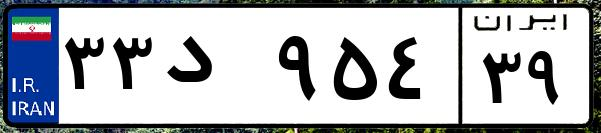3: (57, 26, 110, 100), (475, 38, 525, 113), (110, 28, 158, 98)
4: (385, 28, 445, 110)
5: (330, 28, 385, 110)
9: (270, 28, 330, 110), (525, 38, 570, 115)
د: (158, 20, 270, 120)
